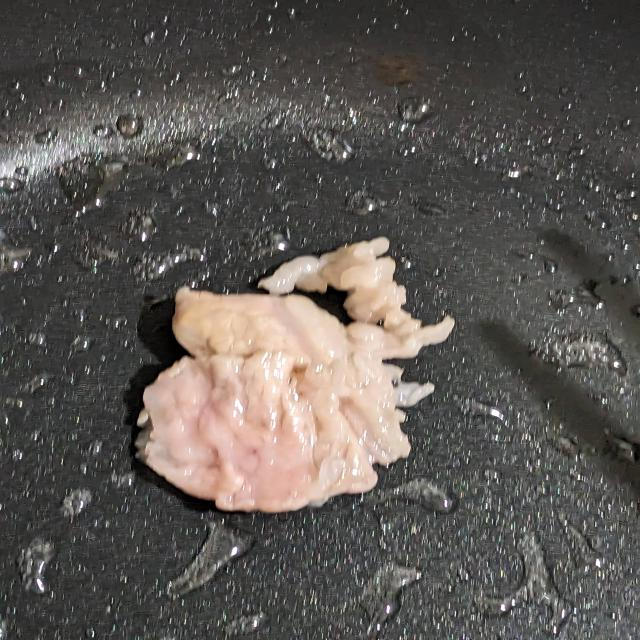NG undercooked pork,: (112, 219, 457, 530)
